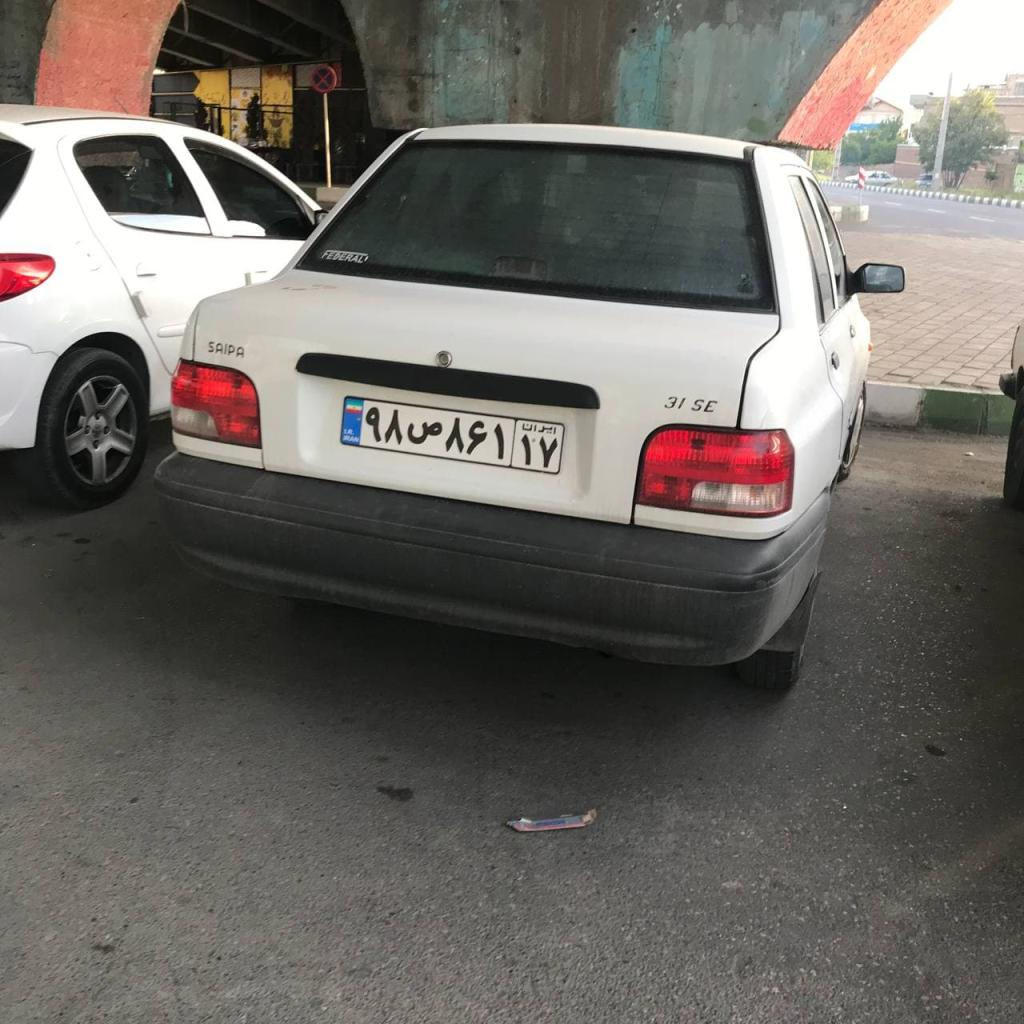Plates: (341, 397, 564, 473)
